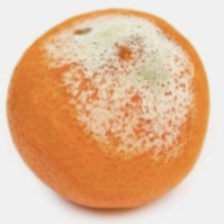orange: (5, 28, 203, 189)
